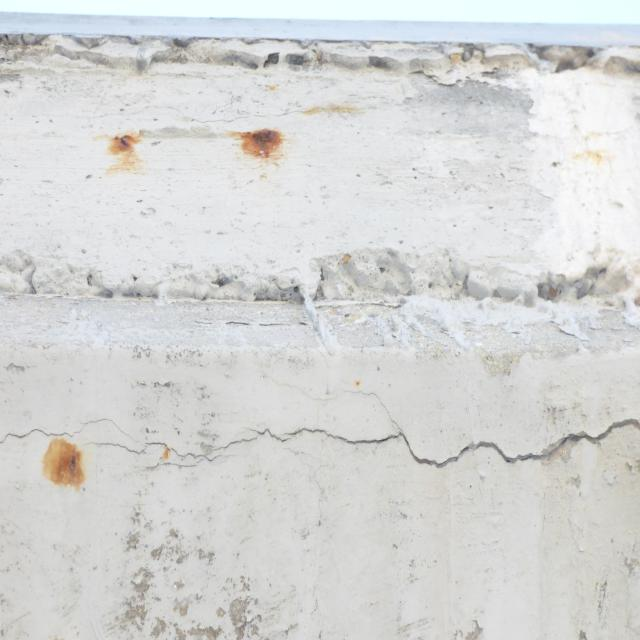concrete spalling: (312, 241, 474, 306), (532, 258, 640, 306)
diagonal crack: (572, 123, 634, 177)
horizontal crack: (0, 365, 640, 472), (42, 104, 402, 125)
